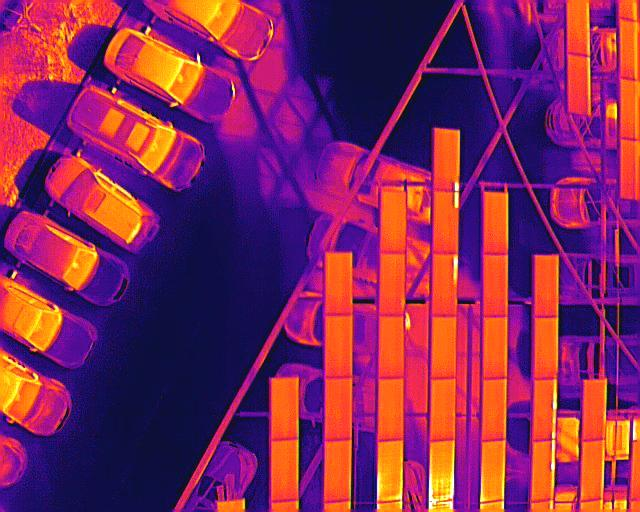No-Anomaly: (269, 439, 300, 500), (269, 379, 300, 438), (324, 315, 353, 378), (324, 379, 353, 442), (324, 253, 353, 315), (380, 190, 407, 253), (324, 442, 352, 502), (483, 192, 510, 254), (380, 253, 406, 317), (432, 316, 458, 379), (533, 255, 559, 318), (484, 255, 510, 318), (379, 316, 405, 378), (481, 442, 506, 503), (584, 380, 609, 440), (380, 378, 404, 440), (433, 378, 457, 440), (582, 439, 606, 501), (484, 317, 508, 378), (535, 318, 559, 379), (484, 379, 506, 441), (619, 18, 640, 80), (621, 78, 640, 141), (621, 138, 640, 200)
Unclassified: (433, 253, 460, 317), (433, 129, 459, 192), (433, 192, 459, 254), (376, 440, 402, 502), (531, 441, 556, 503), (430, 440, 454, 504), (534, 380, 557, 441)
